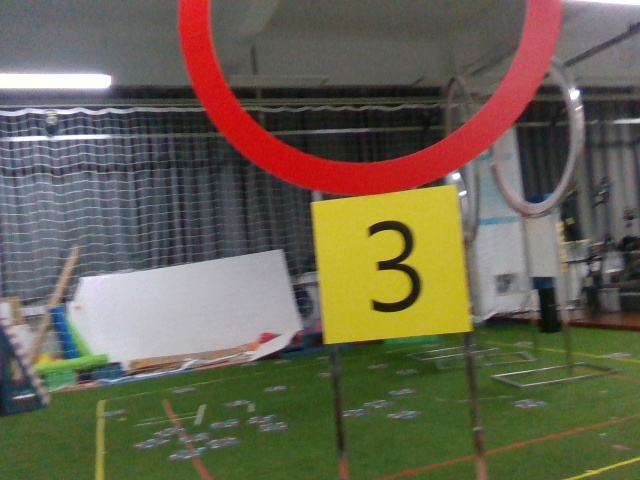target: (321, 196, 459, 341)
